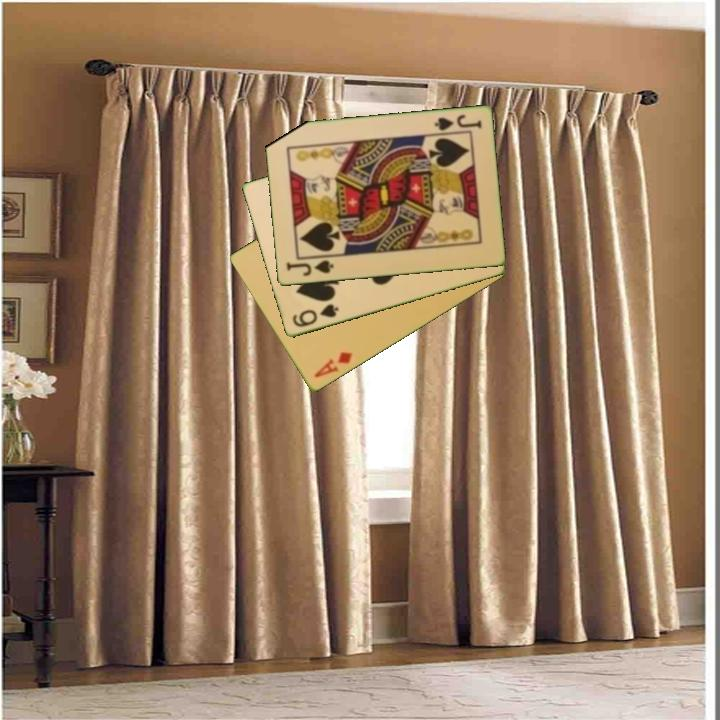6s: (289, 301, 341, 330)
Ad: (310, 348, 355, 381)
Js: (431, 111, 484, 134), (283, 257, 336, 279)
